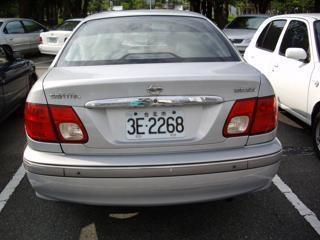plate: (122, 108, 188, 140)
